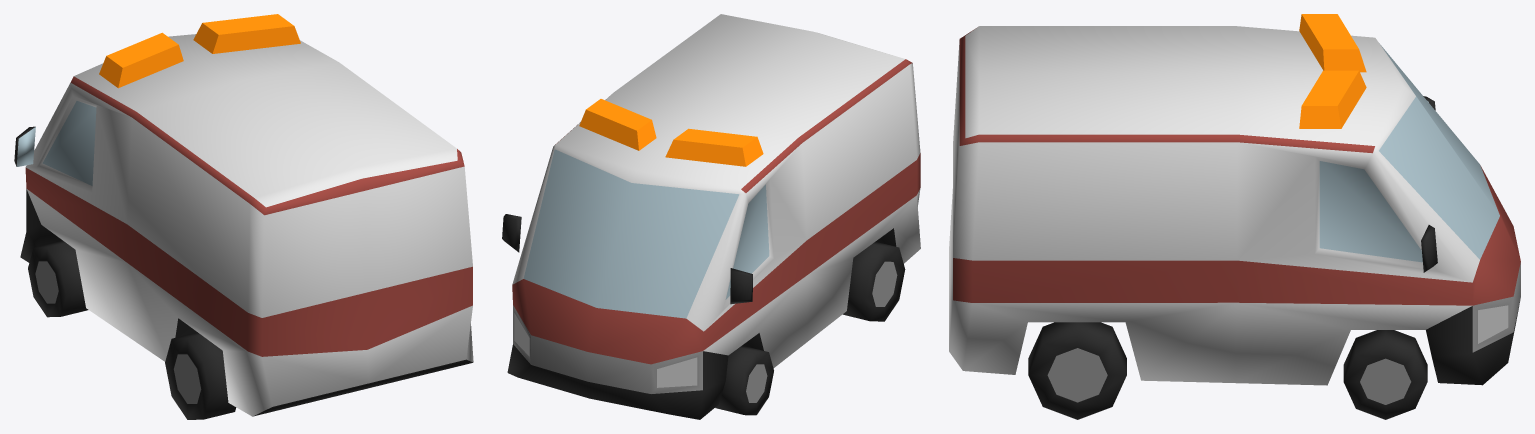
The model's file is ambulance.fbx.
The picture shows the model from 3 angles, left to right: view 1: azimuth 30°, elevation 25°; view 2: azimuth 150°, elevation 25°; view 3: azimuth 270°, elevation 25°; orthographic projection. The views are drawn at different scales.
Visible parts, largest first — view 1: recto.004; view 2: recto.004; view 3: recto.004.
Boxes of the visible parts, left/top/right/bottom form: recto.004: left=14, top=14, right=473, bottom=419; recto.004: left=502, top=14, right=920, bottom=419; recto.004: left=949, top=14, right=1520, bottom=419.
Size of the model in its own units: 0.3578 by 0.3365 by 0.593.
